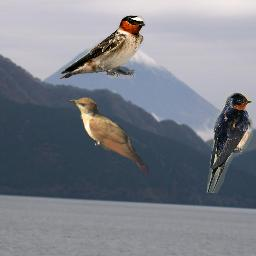Cuckoo: (69, 97, 149, 176)
Swallow: (59, 14, 146, 79), (205, 91, 253, 193)
